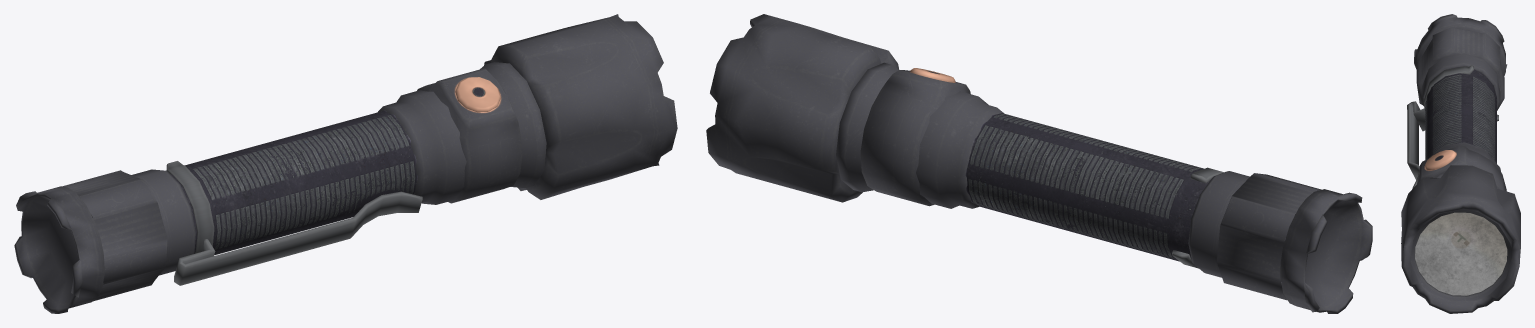
The picture shows the model from 3 angles, left to right: view 1: azimuth 30°, elevation 25°; view 2: azimuth 150°, elevation 25°; view 3: azimuth 270°, elevation 25°; orthographic projection. The views are drawn at different scales.
Visible parts, largest first — view 1: SM_Flashlight_V01_0; view 2: SM_Flashlight_V01_0; view 3: SM_Flashlight_V01_0.
Part boxes in pixels (box(x1,y1,x2,y2)): SM_Flashlight_V01_0: box(14, 14, 677, 313); SM_Flashlight_V01_0: box(706, 14, 1372, 313); SM_Flashlight_V01_0: box(1401, 14, 1520, 313).
Bounding box in the file's own units: 0.1307 × 0.0306 × 0.0303.
